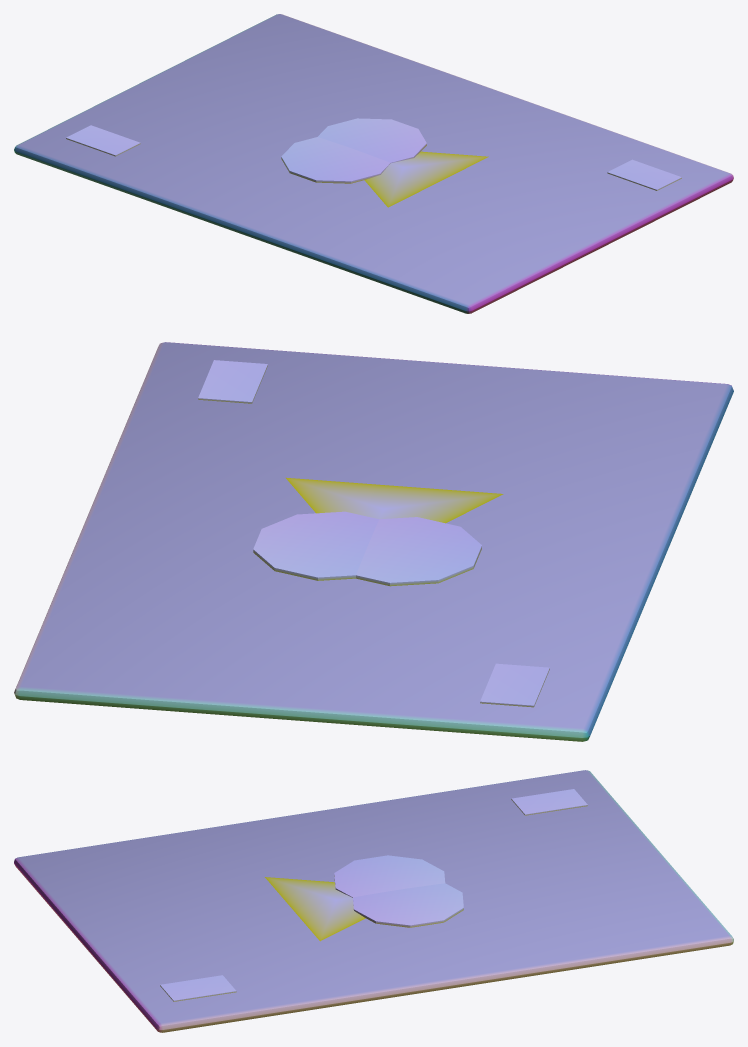
File: env_deco_card.glb
The picture shows the model from 3 angles, top to bottom: view 1: azimuth 30°, elevation 25°; view 2: azimuth 150°, elevation 25°; view 3: azimuth 270°, elevation 25°; orthographic projection. The views are drawn at different scales.
Visible parts, largest first — view 1: env_deco_card_mesh; view 2: env_deco_card_mesh; view 3: env_deco_card_mesh.
Boxes of the visible parts, x1=… form: env_deco_card_mesh: x1=14, y1=14, x2=733, y2=313; env_deco_card_mesh: x1=14, y1=342, x2=733, y2=741; env_deco_card_mesh: x1=14, y1=770, x2=733, y2=1032.
Bounding box in the file's own units: 0.4553 × 0.011 × 0.539.
